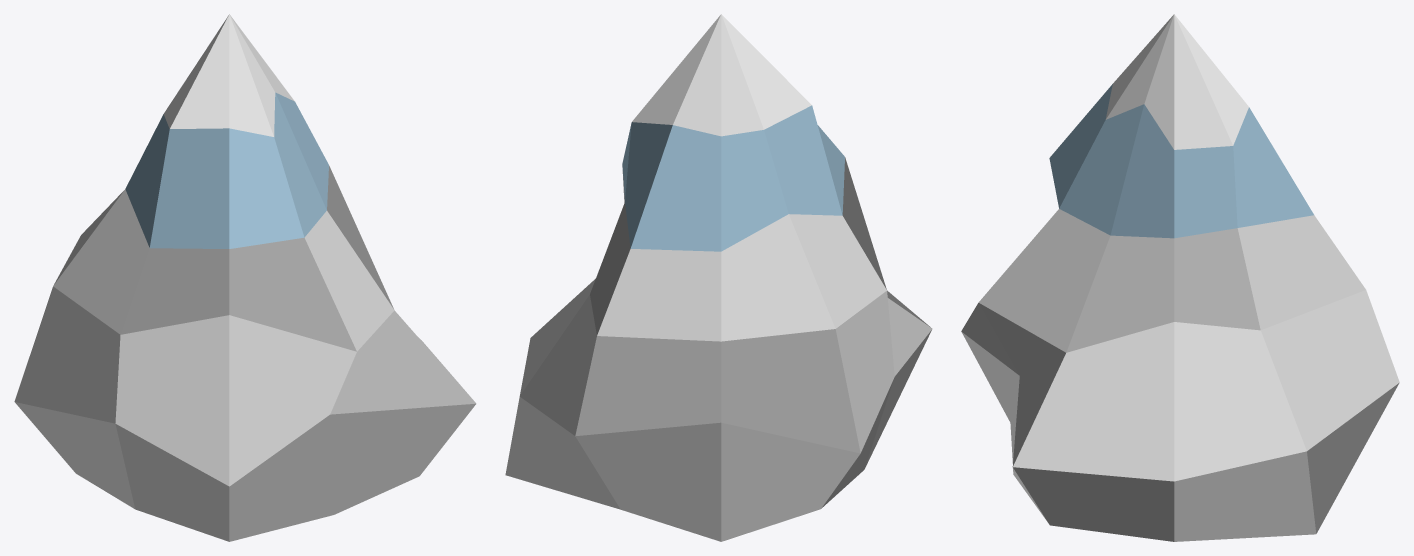
Rendered from Mountain5.fbx.
3 views of the same model, side by side, from view 1: azimuth 30°, elevation 25°; view 2: azimuth 150°, elevation 25°; view 3: azimuth 270°, elevation 25° (orthographic).
Parts seen in each view (by area): view 1: Mountain_03; view 2: Mountain_03; view 3: Mountain_03.
Part boxes in pixels (x1=…): Mountain_03: x1=14, y1=14, x2=476, y2=541; Mountain_03: x1=505, y1=14, x2=932, y2=541; Mountain_03: x1=961, y1=14, x2=1399, y2=541.
Bounding box in the file's own units: 1623 × 1880 × 1665.
